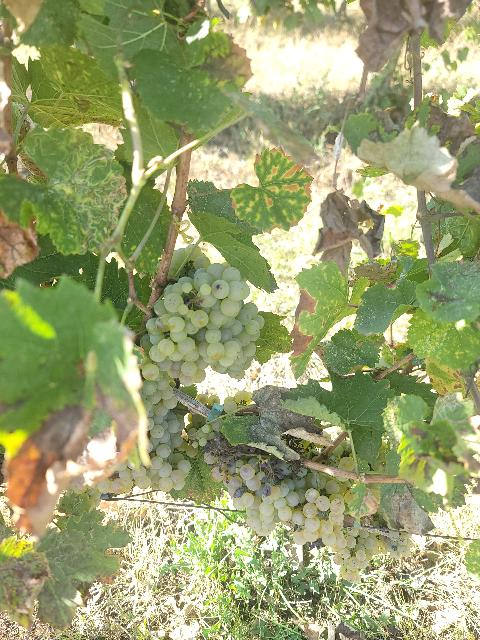grapes: (141, 255, 265, 391), (204, 435, 306, 536), (96, 395, 191, 495), (292, 489, 348, 549)
